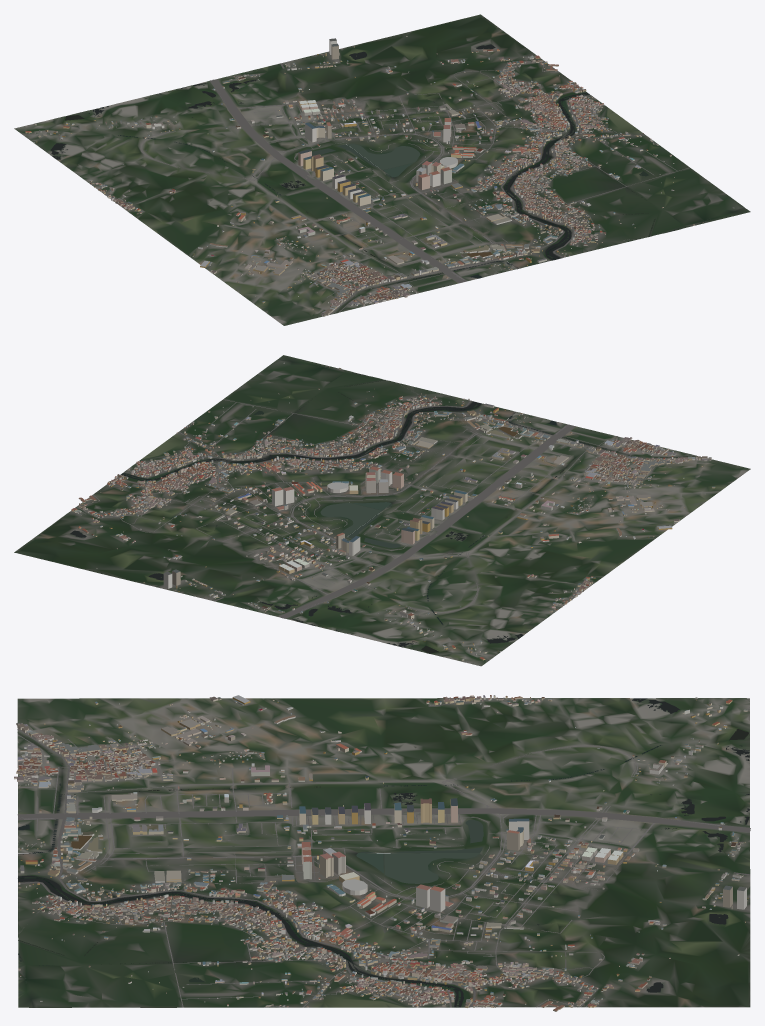
The picture shows the model from 3 angles, top to bottom: view 1: azimuth 30°, elevation 25°; view 2: azimuth 150°, elevation 25°; view 3: azimuth 270°, elevation 25°; orthographic projection. The views are drawn at different scales.
Visible parts, largest first — view 1: ground, buildings, roads, water; view 2: ground, buildings, roads, water; view 3: ground, buildings, roads, water.
Boxes of the visible parts, x1,y1,x2,y2 form: ground: (14,14,750,325); buildings: (25,36,733,316); roads: (17,58,689,315); water: (51,44,710,313); ground: (14,355,750,666); buildings: (71,362,715,660); roads: (75,385,708,665); water: (70,366,694,653); ground: (17,698,750,1007); buildings: (14,695,748,1011); roads: (17,697,750,1007); water: (17,698,749,1007).
Size of the model in its own units: 2857 by 90.51 by 2822.
